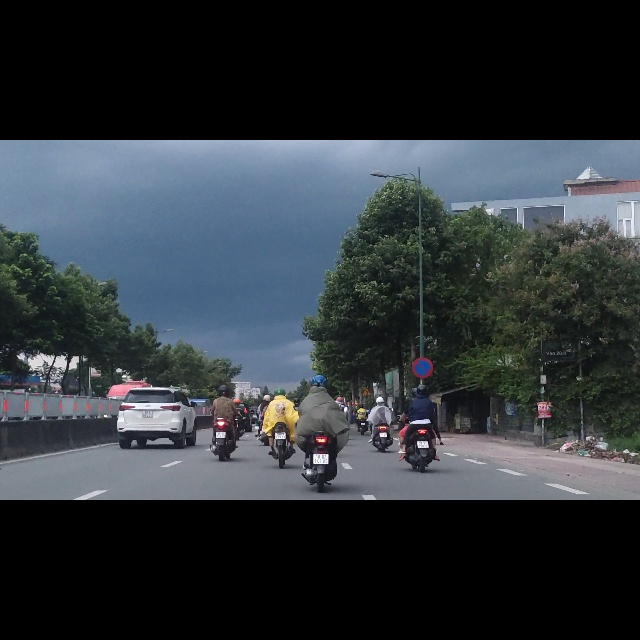bien_hieu_lenh: (412, 386, 433, 424), (362, 440, 371, 455)
